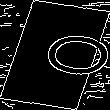O_W: (11, 28, 99, 82)
